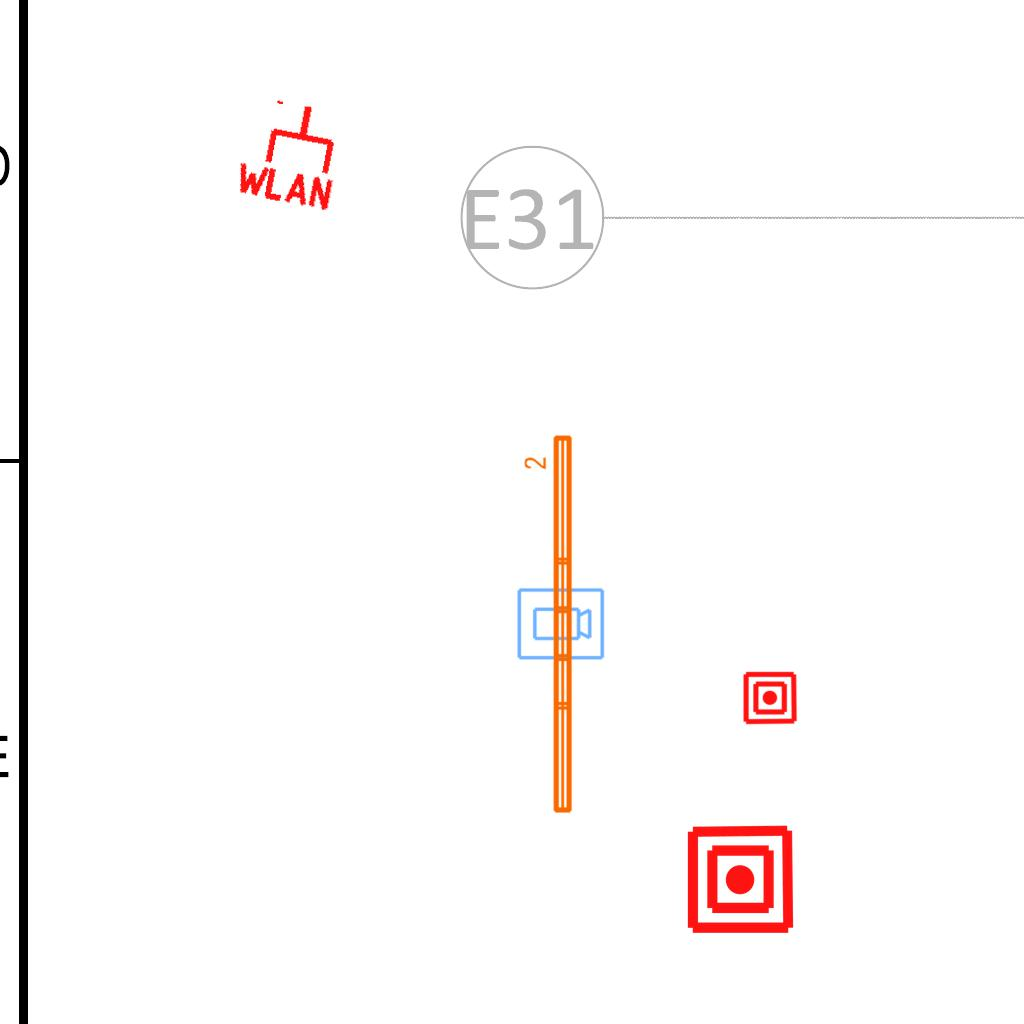Ambulanz_Pendelleuchte_LED: (522, 431, 578, 818)
KFO_Kamera_mit_Festobjektiv: (515, 586, 606, 663)
NAM-Nichtautomatischer_Melder: (684, 823, 797, 936), (742, 670, 798, 726)
WLAN: (229, 90, 352, 214)
